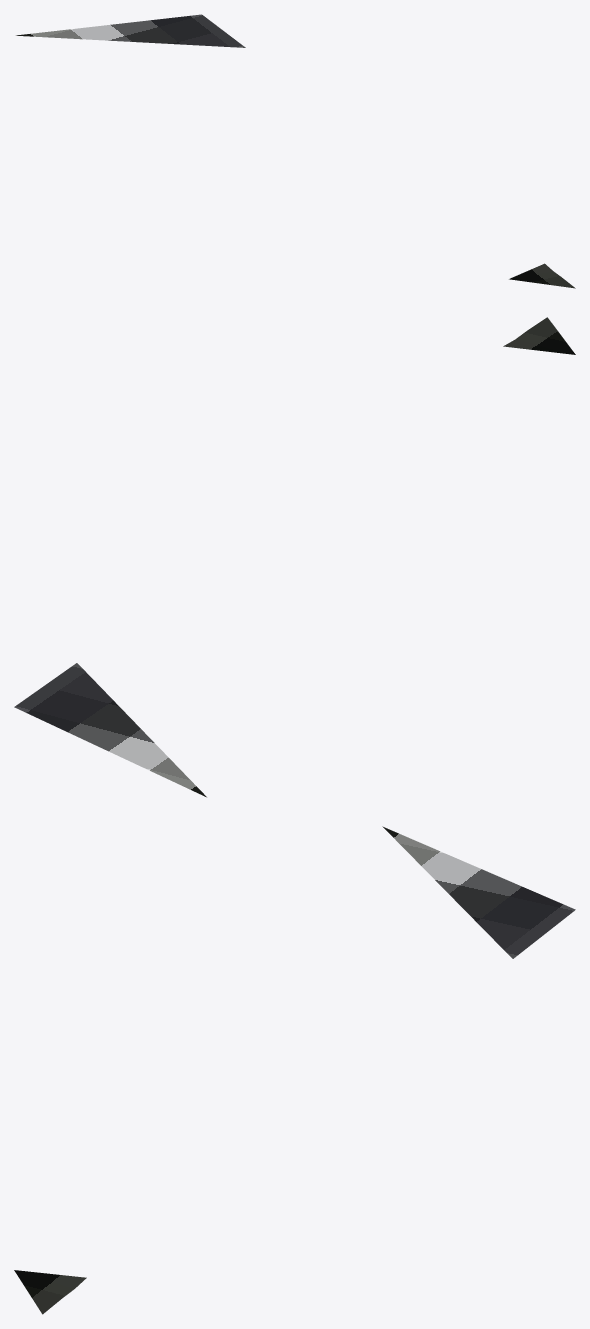
The model's file is Tile_000_003_L14_4442.glb.
3 views of the same model, one above another, from view 1: azimuth 30°, elevation 25°; view 2: azimuth 150°, elevation 25°; view 3: azimuth 330°, elevation 25° (orthographic). The views are drawn at different scales.
Parts seen in each view (by area): view 1: rtc; view 2: rtc; view 3: rtc.
Part boxes in pixels (x1,y1,x2,y2): rtc: (16, 14, 575, 288); rtc: (14, 317, 575, 797); rtc: (14, 826, 575, 1314).
Bounding box in the file's own units: 1.46 × 0.0429 × 6.08.
Materials: 1 (1 with a texture image).
